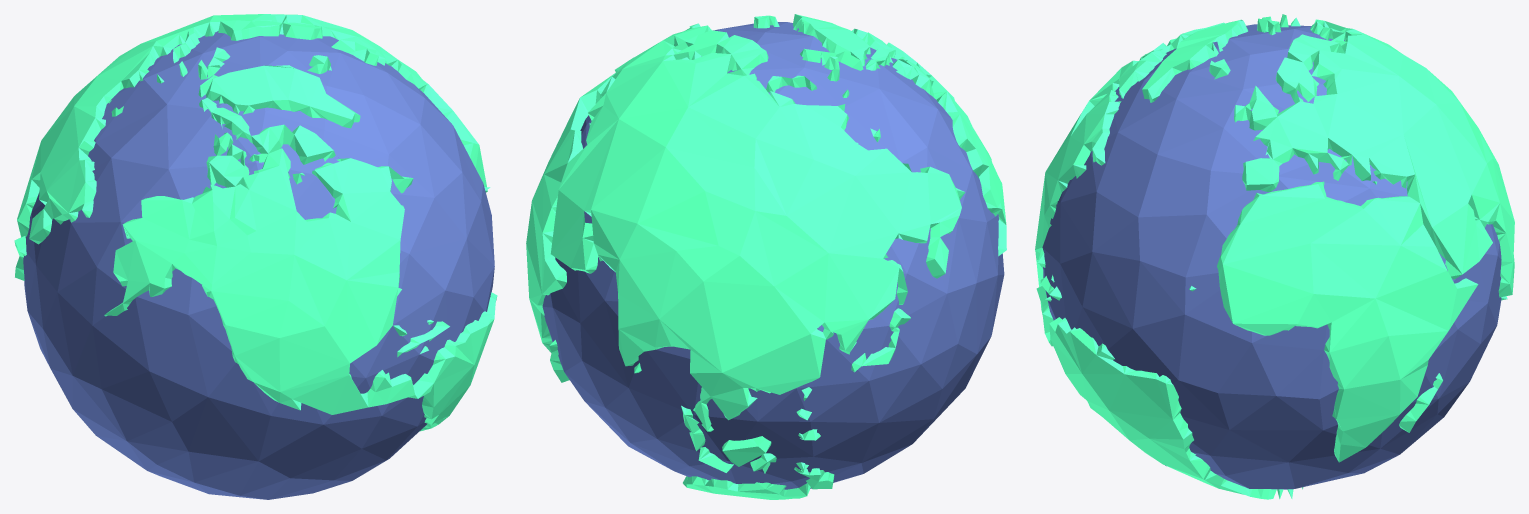
The model's file is earth.glb.
3 renders of one model, left to right at view 1: azimuth 30°, elevation 25°; view 2: azimuth 150°, elevation 25°; view 3: azimuth 270°, elevation 25°, orthographic.
Parts seen in each view (by area): view 1: low_poly_earth; view 2: low_poly_earth; view 3: low_poly_earth.
Boxes of the visible parts, left/top/right/bottom form: low_poly_earth: left=14, top=14, right=497, bottom=499; low_poly_earth: left=526, top=14, right=1006, bottom=499; low_poly_earth: left=1035, top=14, right=1514, bottom=499.
Size of the model in its own units: 1.95 by 2.01 by 1.99.
